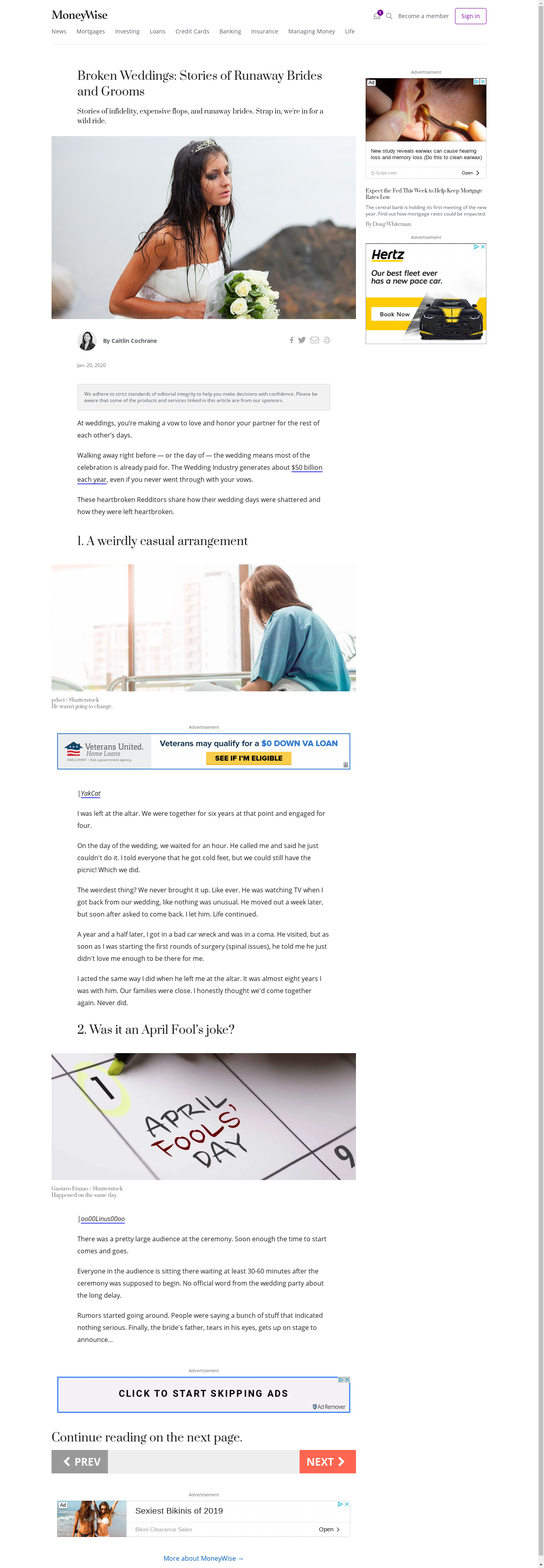fake_button: (291, 1444, 364, 1486), (45, 1444, 113, 1477), (197, 753, 298, 769)
